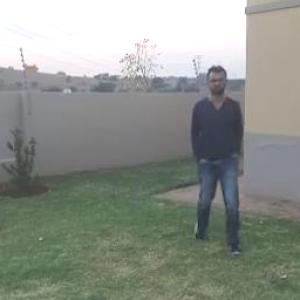follow: (188, 61, 250, 241)
